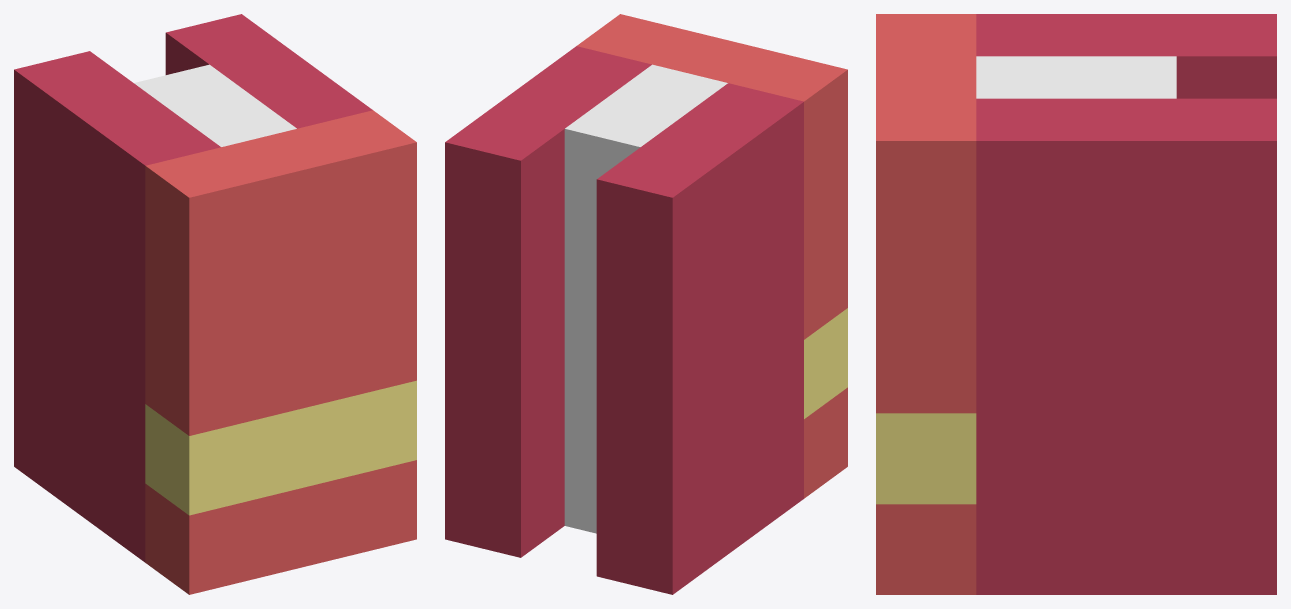
Rendered from book_red.obj.
3 views of the same model, side by side, from view 1: azimuth 30°, elevation 25°; view 2: azimuth 150°, elevation 25°; view 3: azimuth 270°, elevation 25° (orthographic). The views are drawn at different scales.
Size of the model in its own units: 0.3 by 0.5 by 0.4.
1 material, 1 textured.
